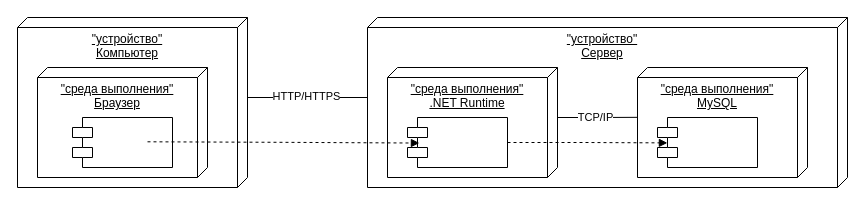
Some shapes in this 865 by 205 pixel diagram are drawn without their labels. The centre of each missing label's shape, as x and y in pixels:
" компоненет" webChat.dll: [457,142]
" компоненет" WebChatDB: [707,142]
"компоненет" HTML 5: [122,142]
